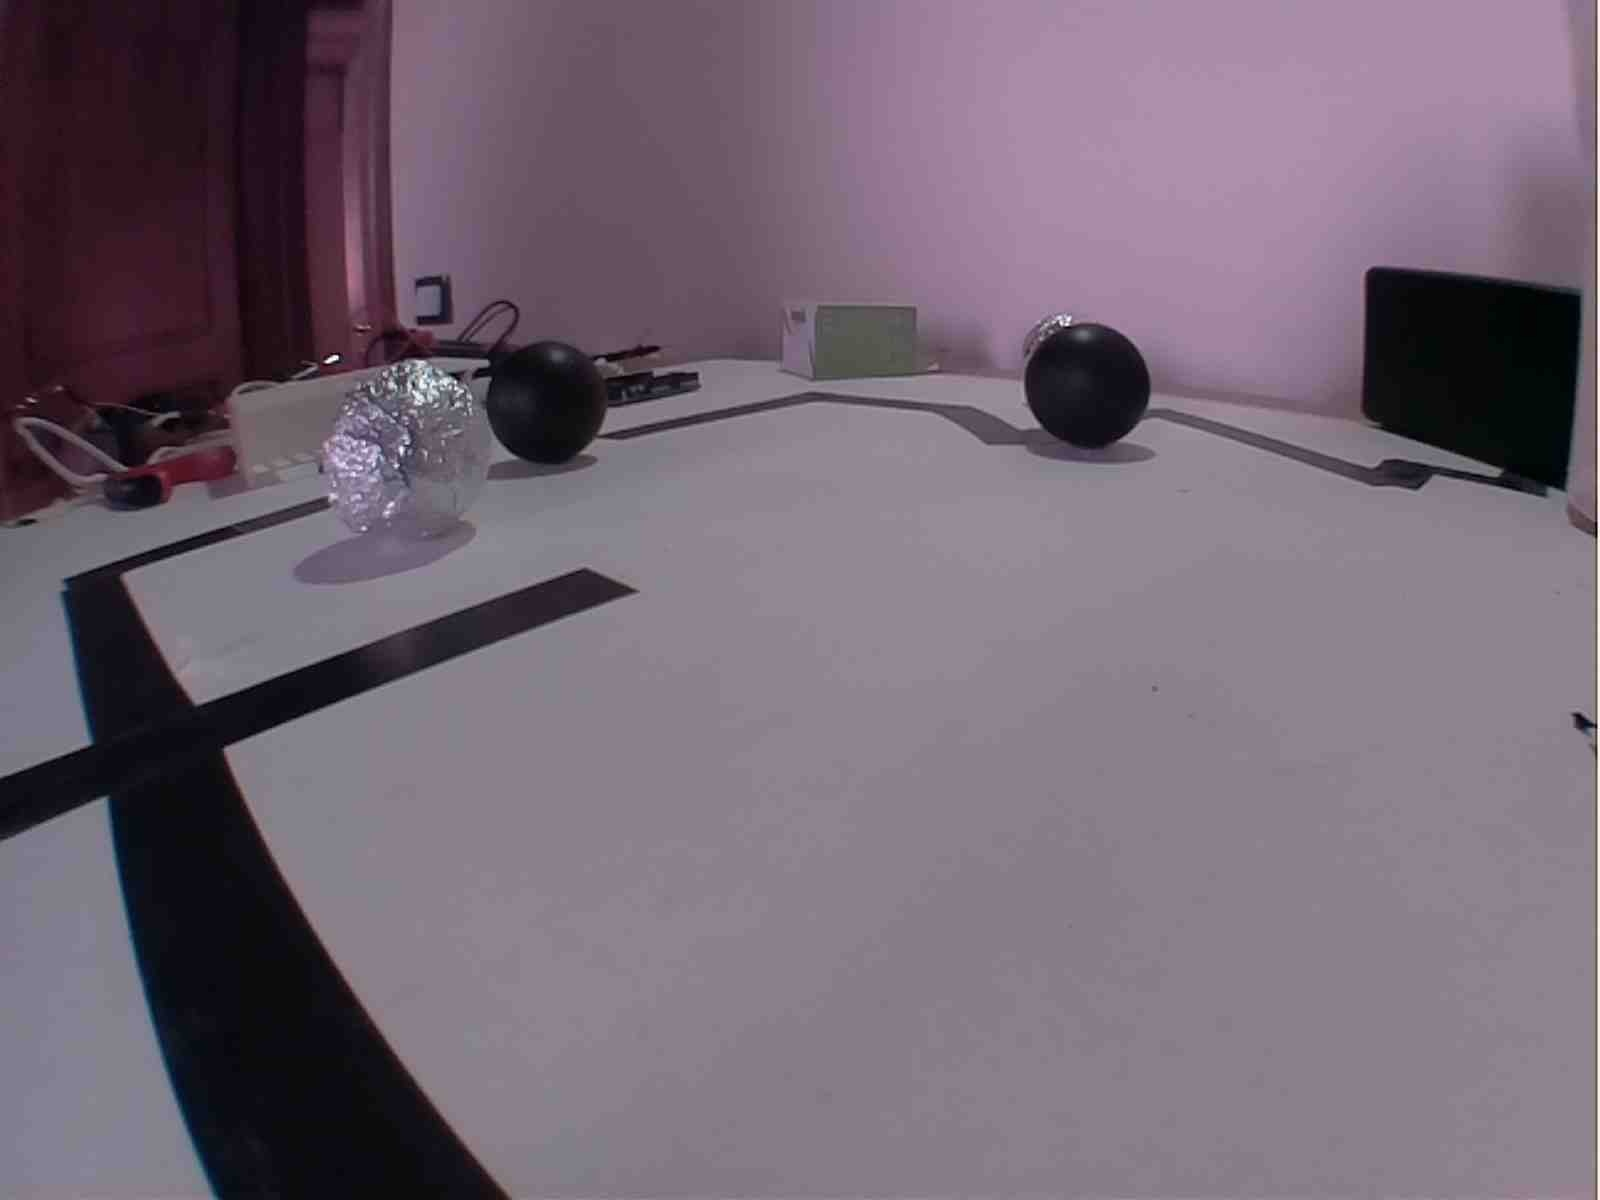bianca: (319, 359, 498, 547), (1017, 303, 1082, 371)
nera: (1015, 316, 1151, 456), (485, 335, 619, 469)
